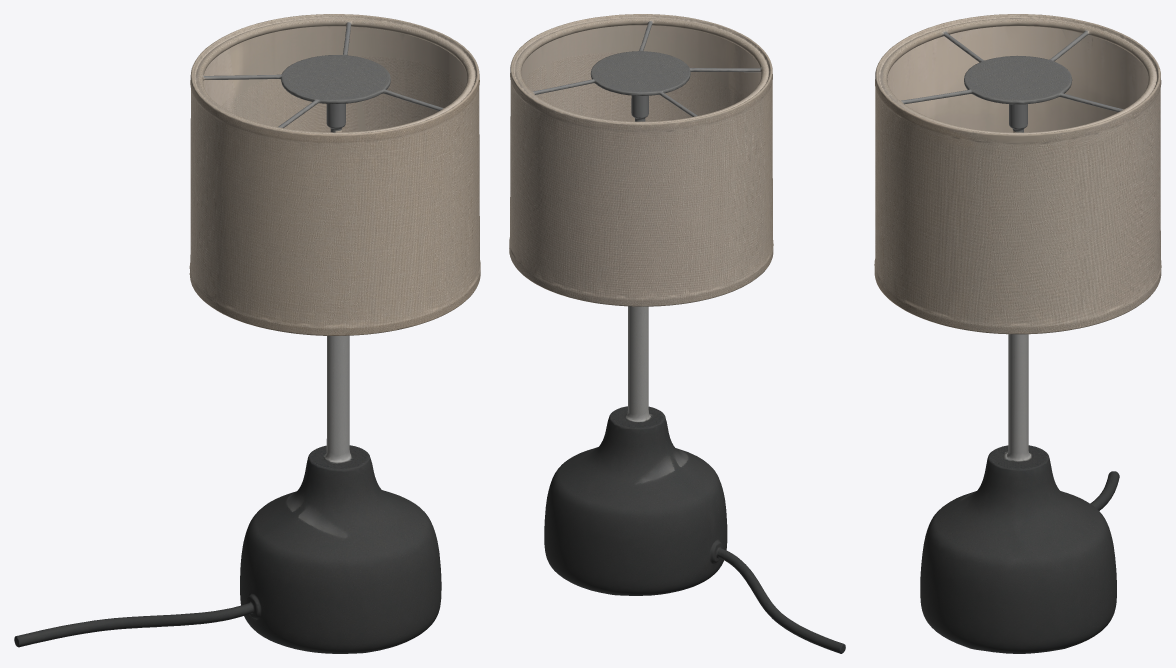
File: lamp.glb
3 renders of one model, left to right at view 1: azimuth 30°, elevation 25°; view 2: azimuth 150°, elevation 25°; view 3: azimuth 270°, elevation 25°, orthographic. The views are drawn at different scales.
Parts seen in each view (by area): view 1: derive_bauhaus_lamp.001; view 2: derive_bauhaus_lamp.001; view 3: derive_bauhaus_lamp.001.
Boxes of the visible parts, x1,y1,x2,y2 form: derive_bauhaus_lamp.001: (14, 14, 480, 653); derive_bauhaus_lamp.001: (509, 14, 845, 653); derive_bauhaus_lamp.001: (874, 14, 1161, 653).
Size of what is drawn, in the model's own units: 0.4644 by 0.6099 by 0.2934.
1 material, 1 textured.
